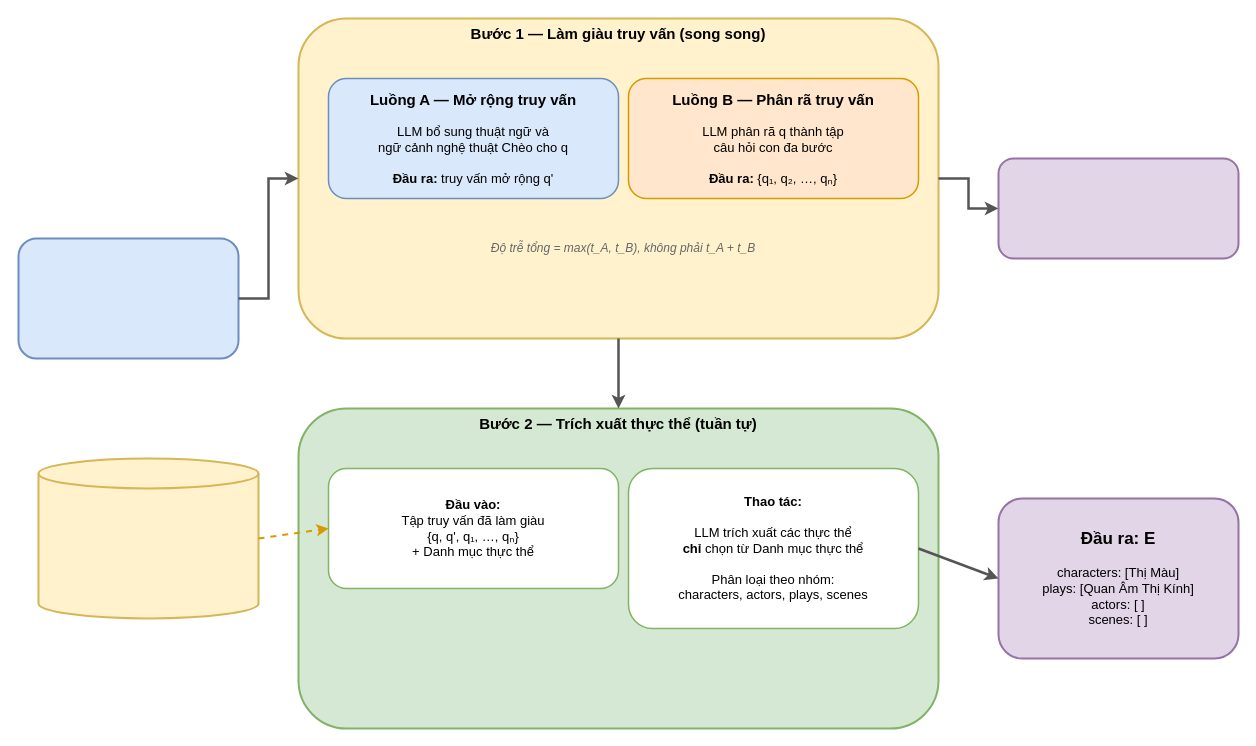
Some shapes in this 1256 by 746 pixel diagram are drawn without their labels. Here are the shapes that lost their labels. From the top down, the centre of each, then its label:
At (1118,208): "Q Q = (q, q', {q₁, …, qₙ})".
At (128,298): "Đầu vào: q ``Ai đóng vai Thị Màu trong vở Quan Âm Thị Kính?''".
At (148,538): "Danh mục thực thể (nạp từ Knowledge Graph khi khởi tạo hệ thống)".
